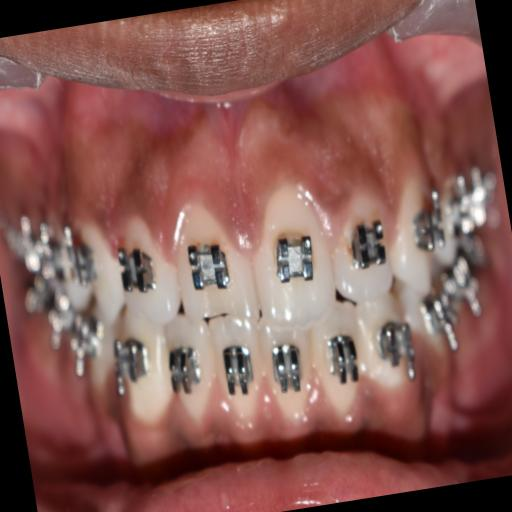correct_brace: (261, 218, 321, 298), (182, 228, 238, 306), (341, 205, 393, 274), (117, 235, 165, 306), (372, 313, 418, 383), (268, 332, 310, 408), (320, 324, 362, 398), (166, 339, 208, 406), (218, 334, 258, 404), (116, 335, 158, 400)
incorrect_brace: (318, 173, 402, 306), (109, 206, 183, 326), (160, 316, 226, 435), (308, 306, 372, 427)
